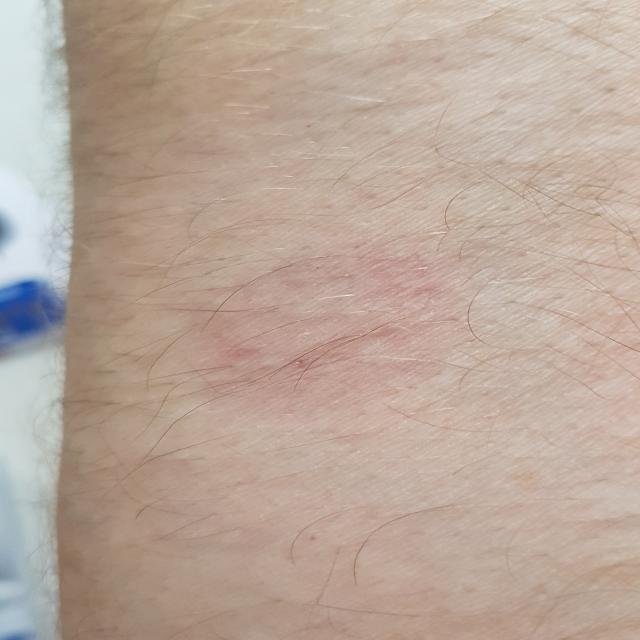tinea: (184, 232, 489, 422)
